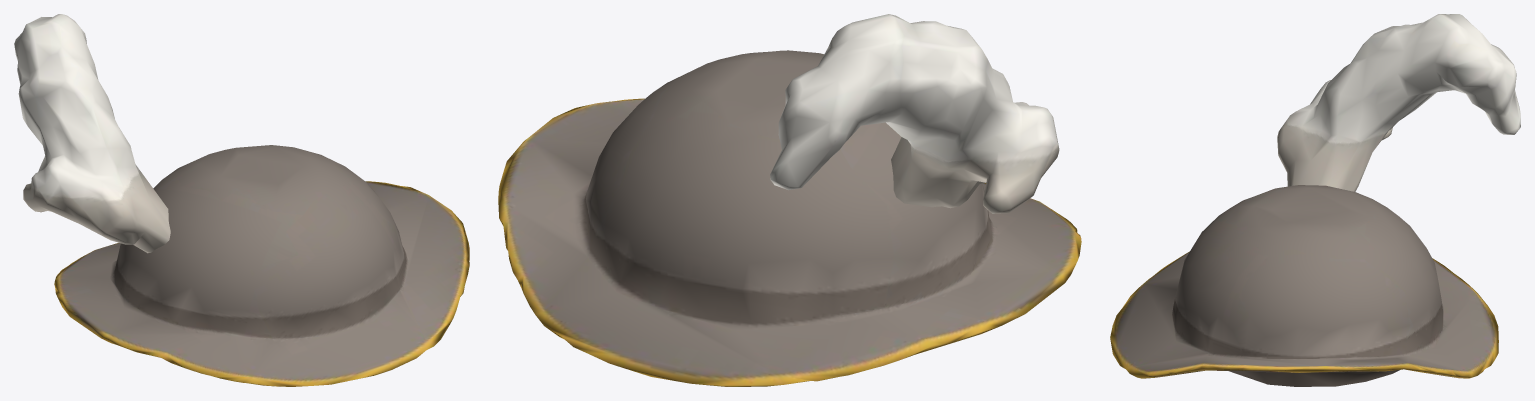
The model's file is duelist-hat.glb.
3 views of the same model, side by side, from view 1: azimuth 30°, elevation 25°; view 2: azimuth 150°, elevation 25°; view 3: azimuth 270°, elevation 25° (orthographic). The views are drawn at different scales.
Visible parts, largest first — view 1: hat; view 2: hat; view 3: hat.
Boxes of the visible parts, x1,y1,x2,y2 form: hat: (14, 14, 469, 386); hat: (498, 14, 1081, 386); hat: (1110, 14, 1520, 386).
Bounding box in the file's own units: 0.6393 × 0.4243 × 0.6042.
1 material, 1 textured.
